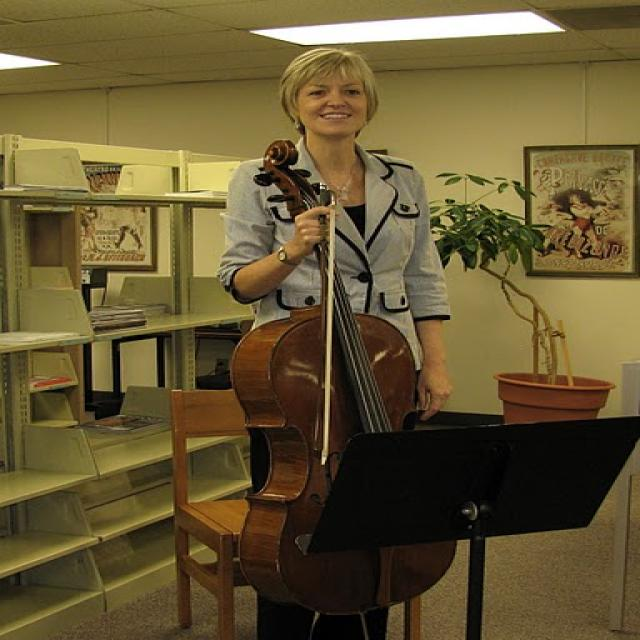cello: (234, 137, 468, 620)
